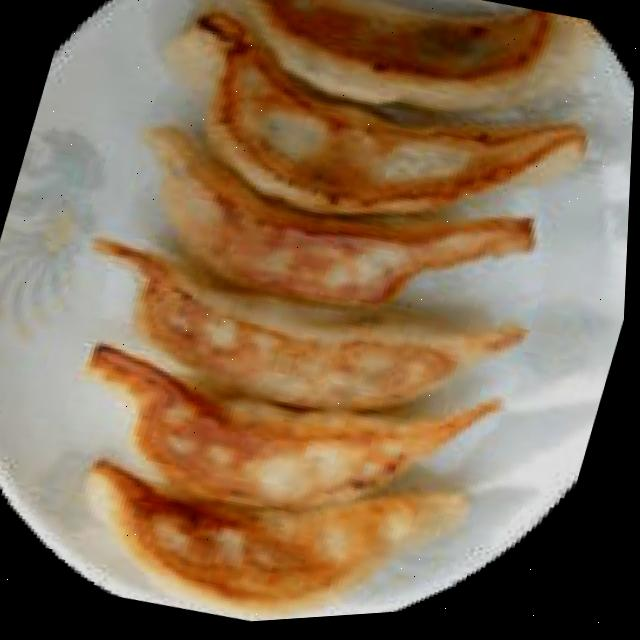带馅早点: (2, 0, 613, 639)
